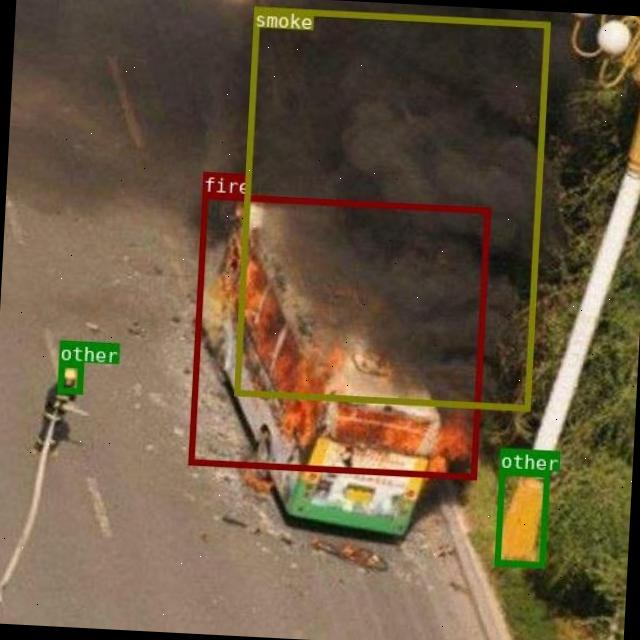fire: (187, 192, 489, 478)
smoke: (234, 5, 549, 410)
